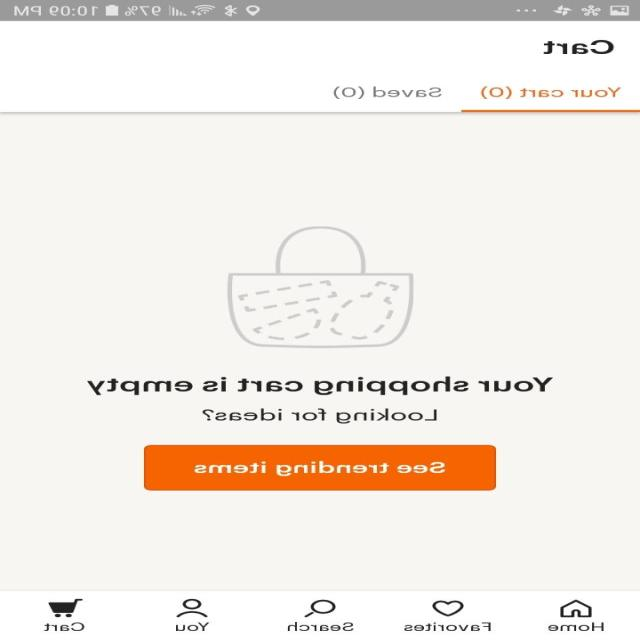Icon: (49, 598, 85, 617), (560, 598, 593, 617), (304, 598, 337, 617), (176, 598, 209, 617), (432, 600, 464, 616)
Image: (226, 226, 414, 348)
Text: (87, 376, 554, 396), (202, 407, 438, 424), (481, 86, 622, 99), (333, 85, 443, 99), (543, 40, 614, 54), (404, 621, 492, 631), (288, 621, 356, 631), (548, 622, 604, 631), (44, 621, 86, 631), (176, 622, 211, 631)
TextButton: (144, 444, 497, 490)
